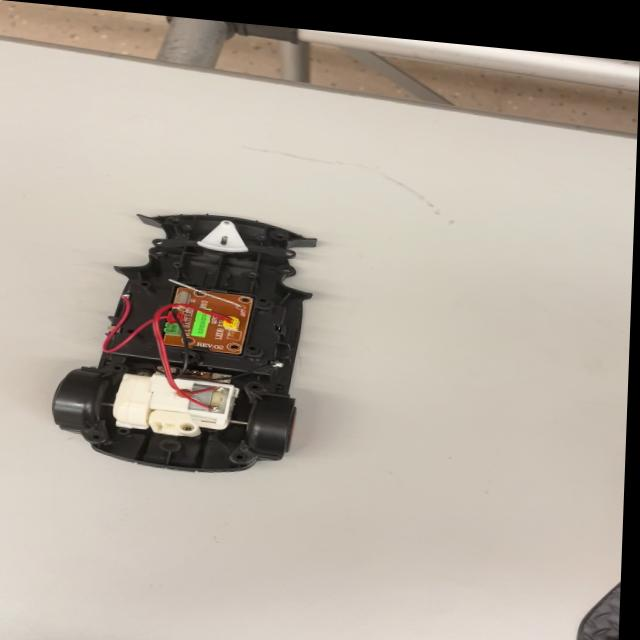Chassis: (74, 198, 321, 483)
